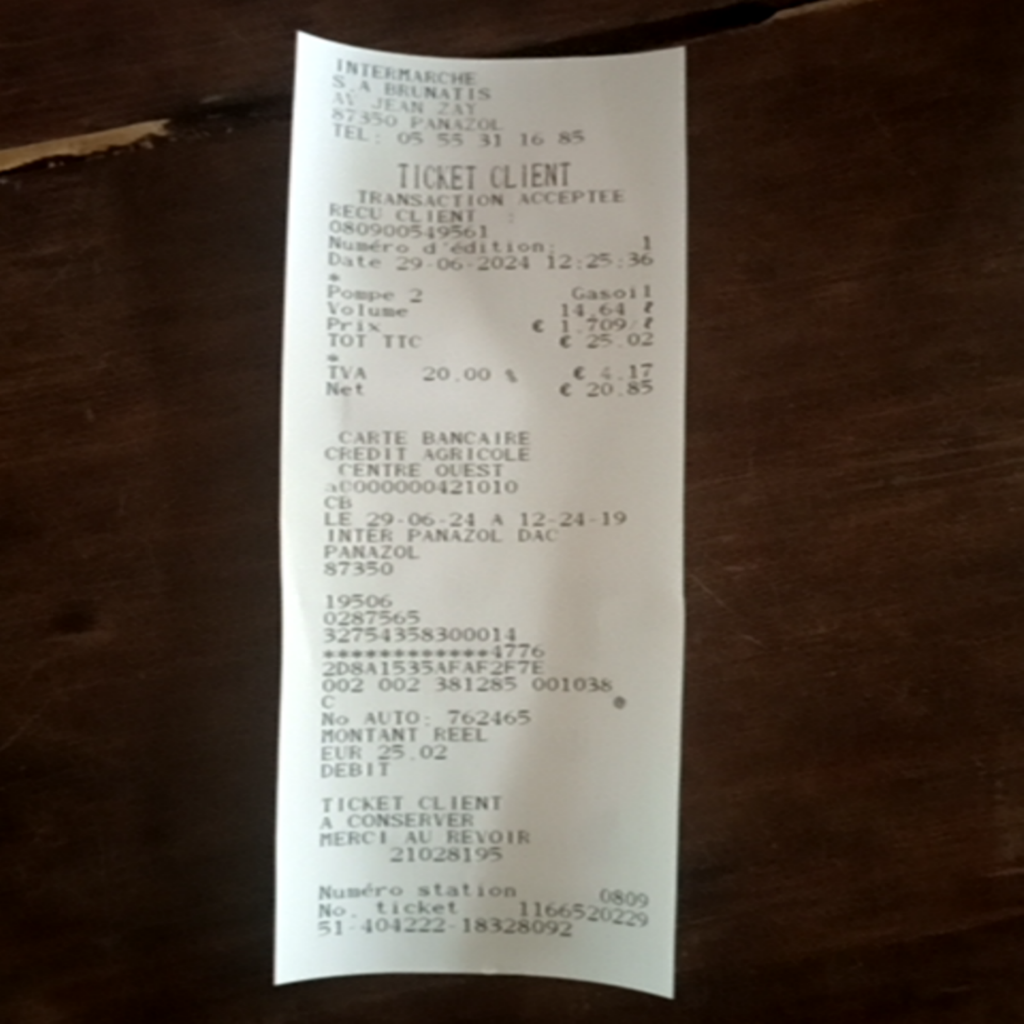recipt: (273, 31, 684, 1001)
